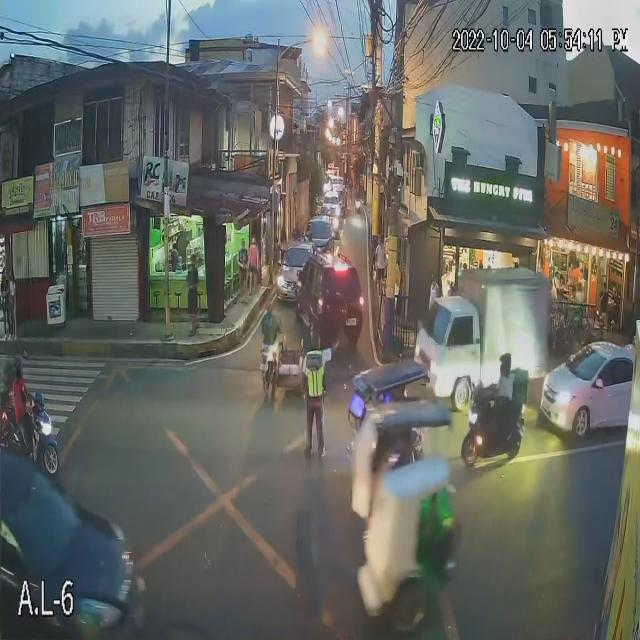helmet: (499, 351, 512, 376), (16, 356, 26, 378)
motorcycle: (0, 392, 62, 473), (460, 395, 524, 466)
rider: (490, 370, 515, 454), (12, 378, 38, 455), (0, 377, 12, 439)
